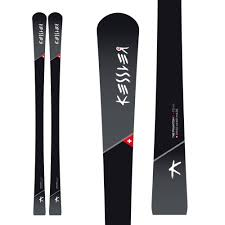skis: (95, 1, 187, 225), (31, 12, 64, 217)
